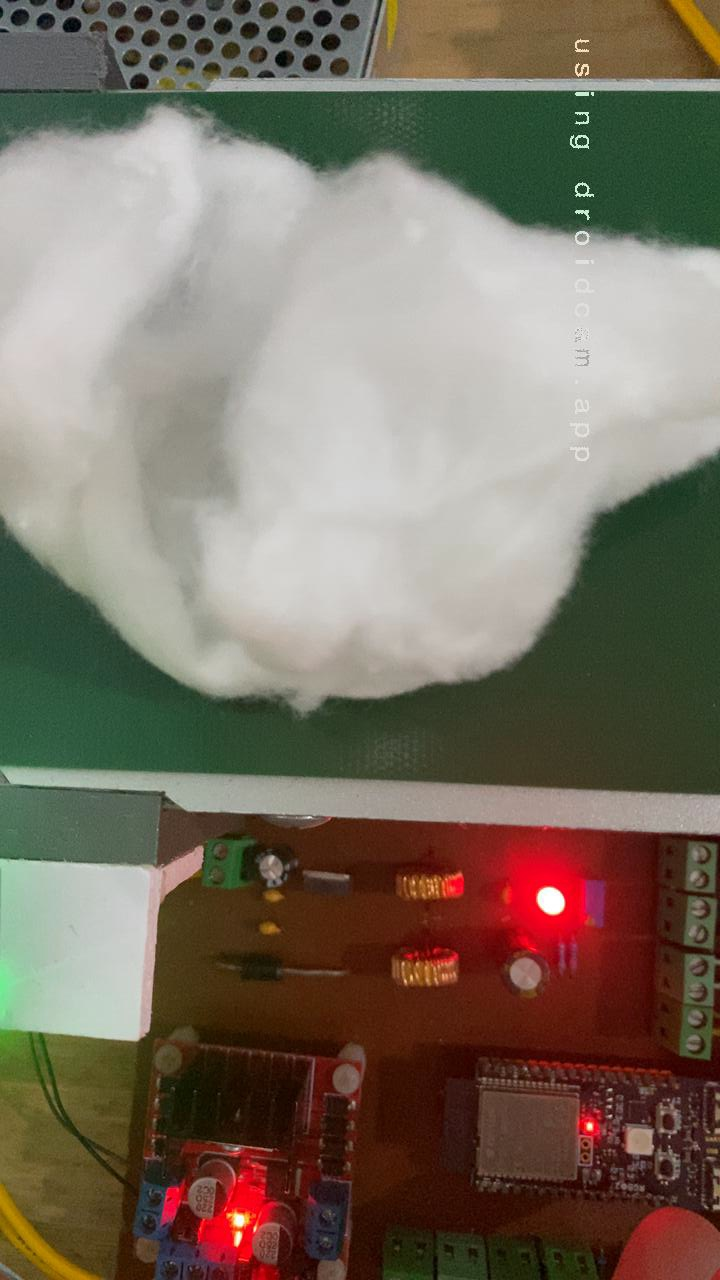cotton: (0, 91, 720, 719)
